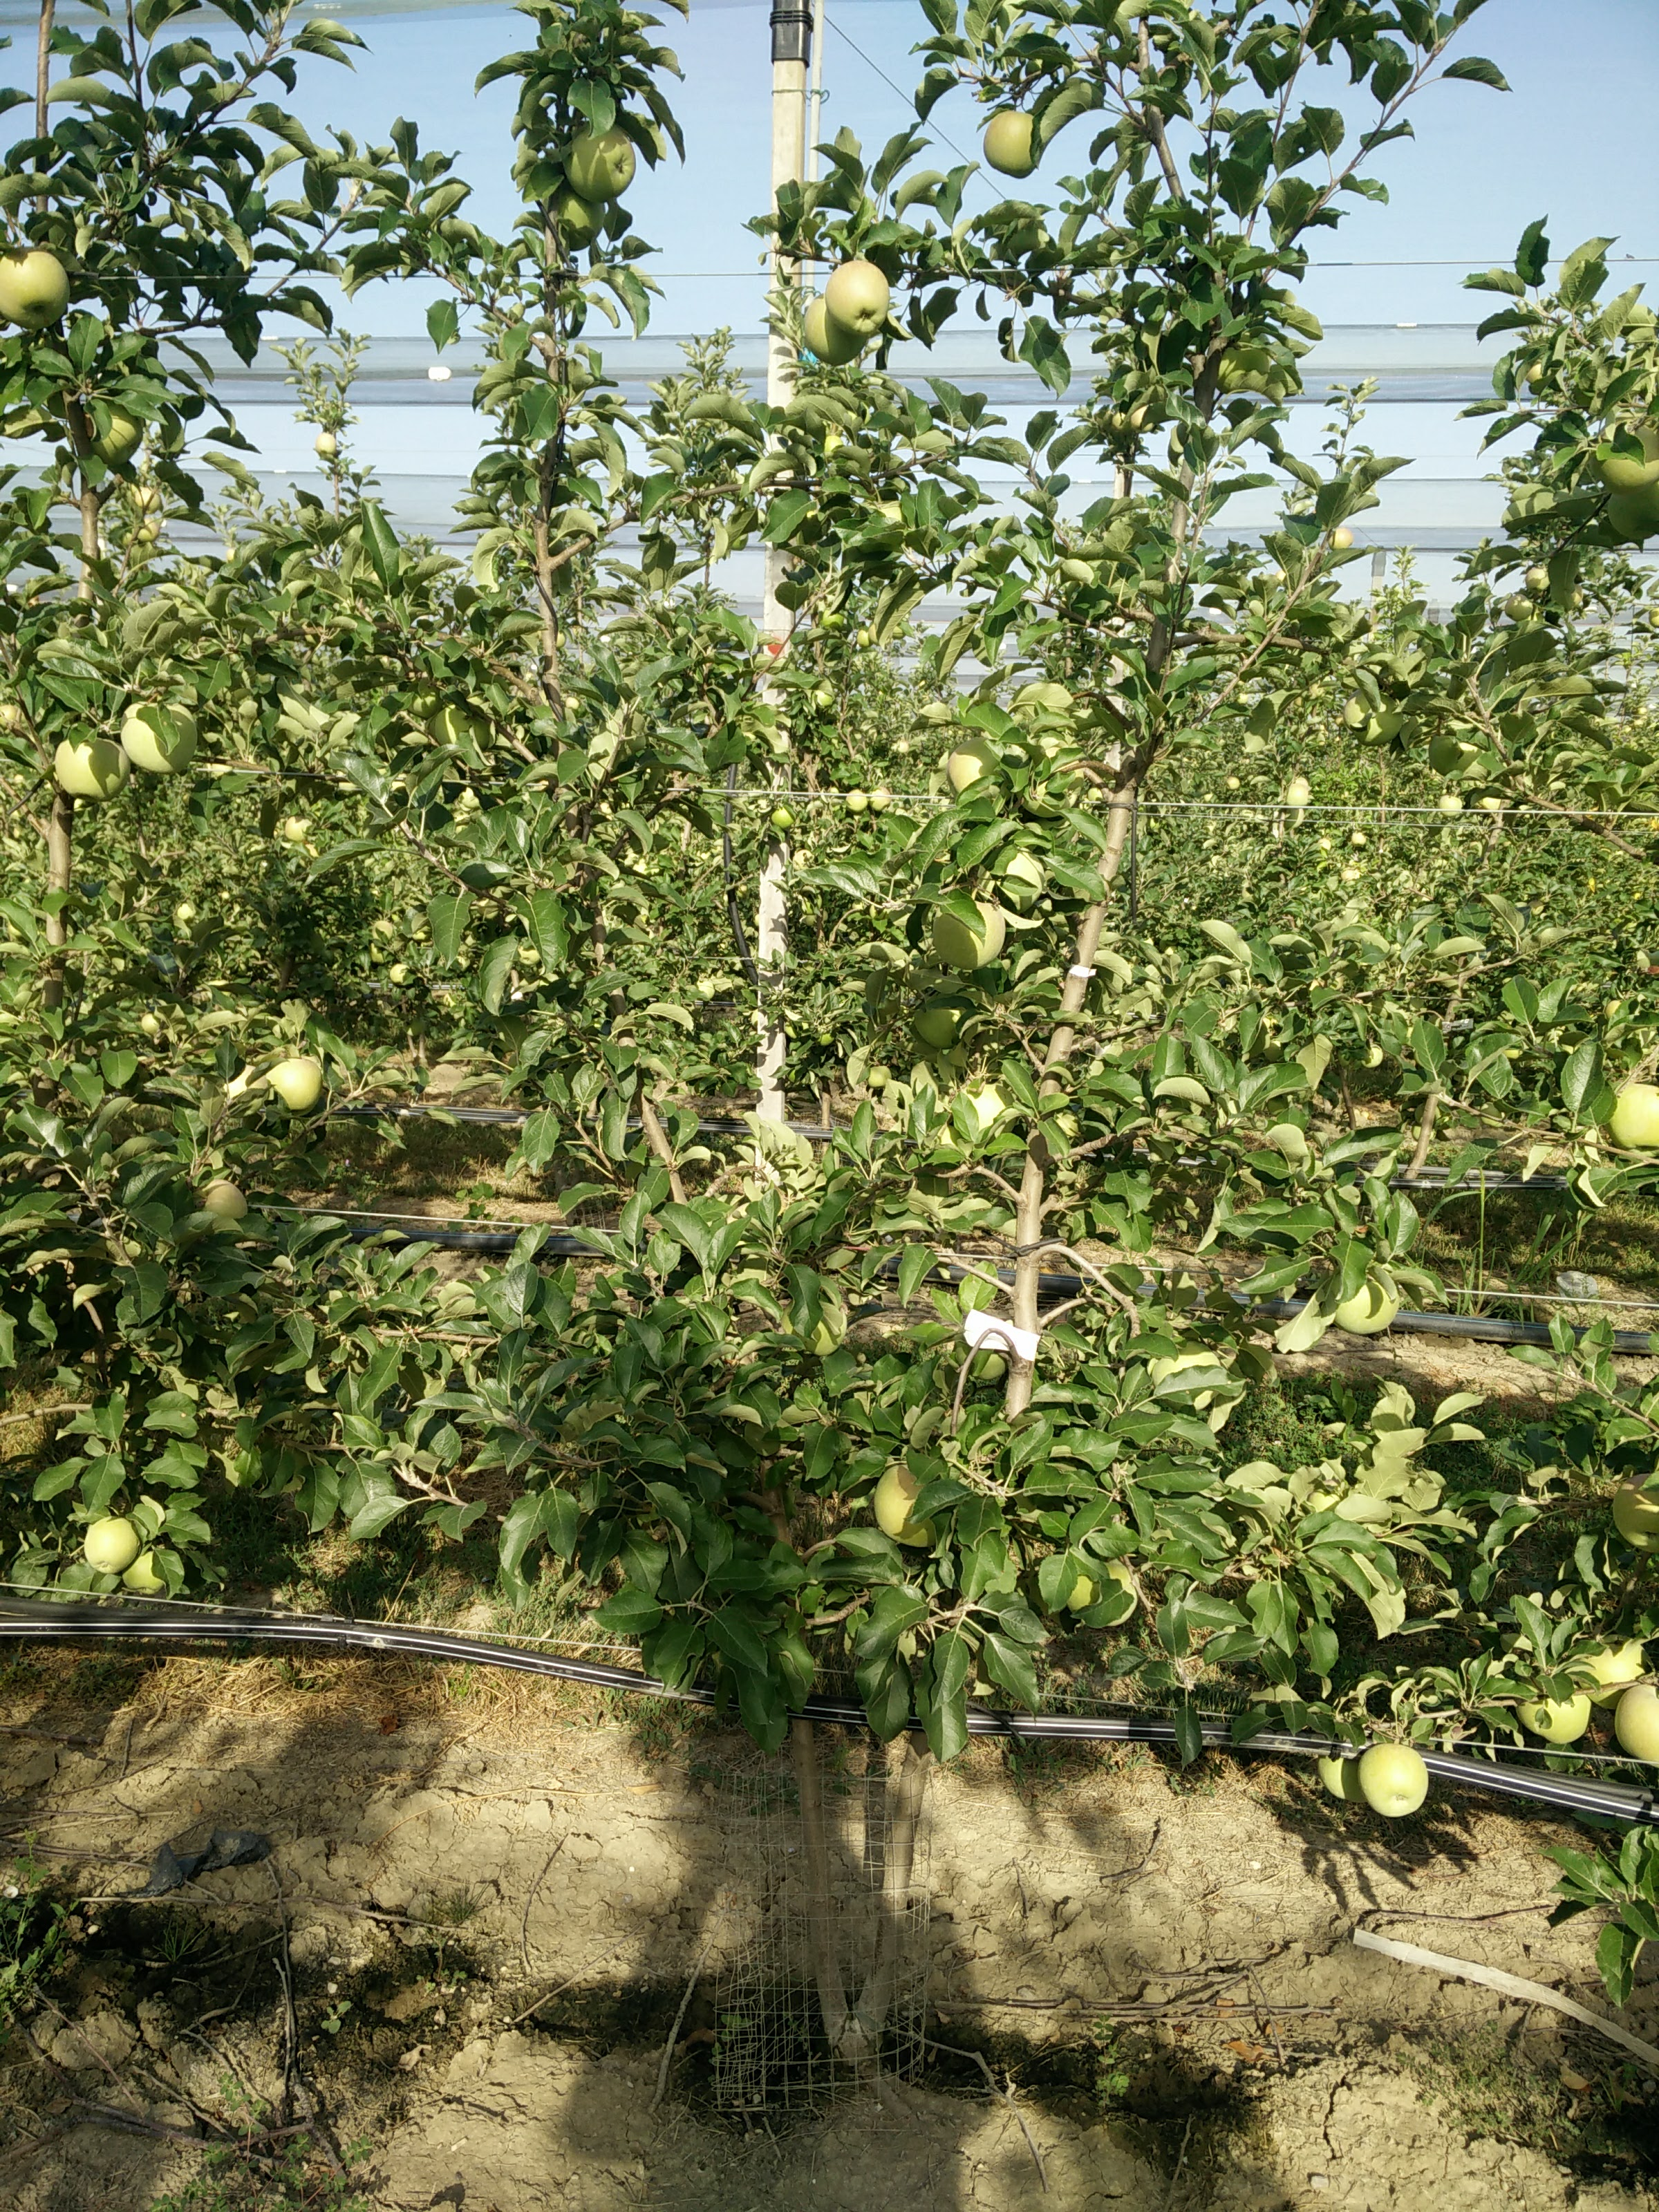apple: (120, 693, 198, 785), (1, 242, 69, 335), (50, 729, 133, 809), (1353, 1740, 1432, 1816), (568, 131, 639, 204), (824, 263, 889, 333), (260, 1048, 326, 1114), (1603, 1078, 1659, 1153), (983, 110, 1046, 176), (84, 1514, 138, 1582)
